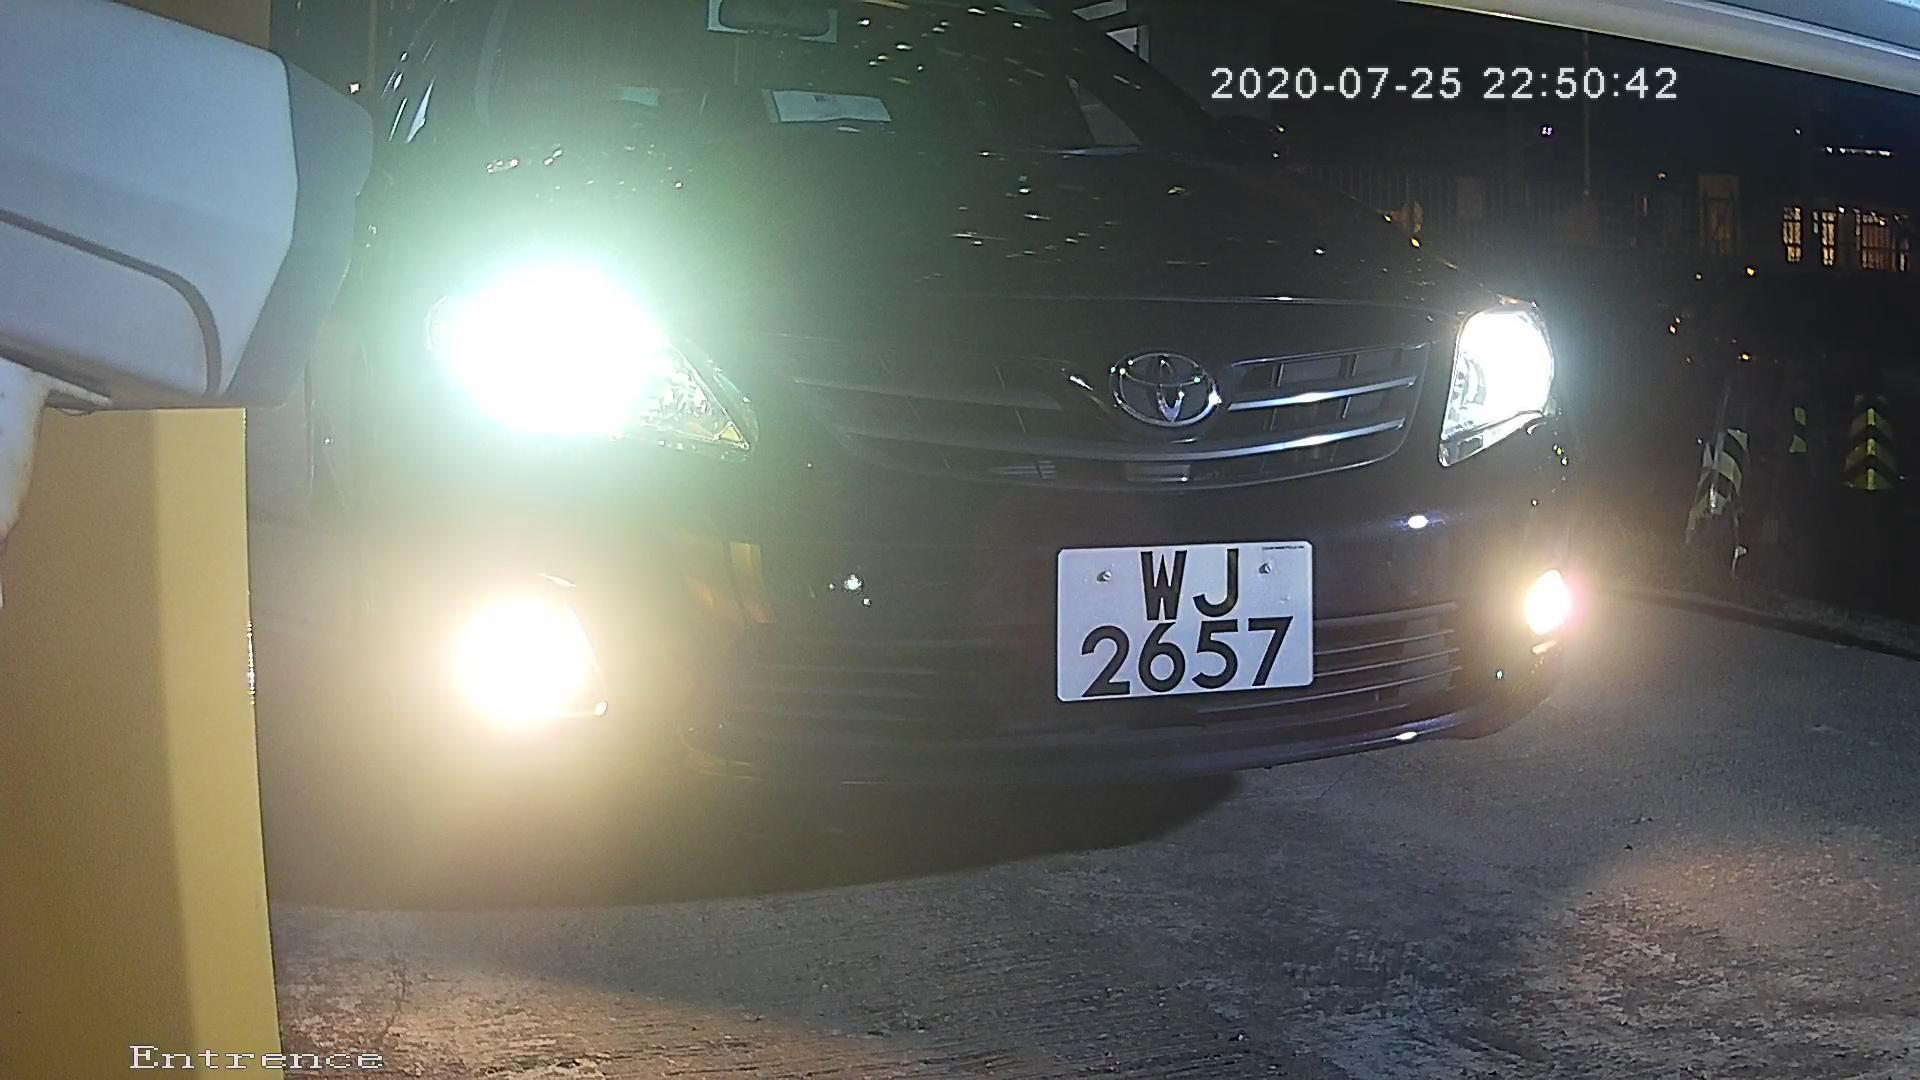privatecar: (335, 5, 1655, 839)
